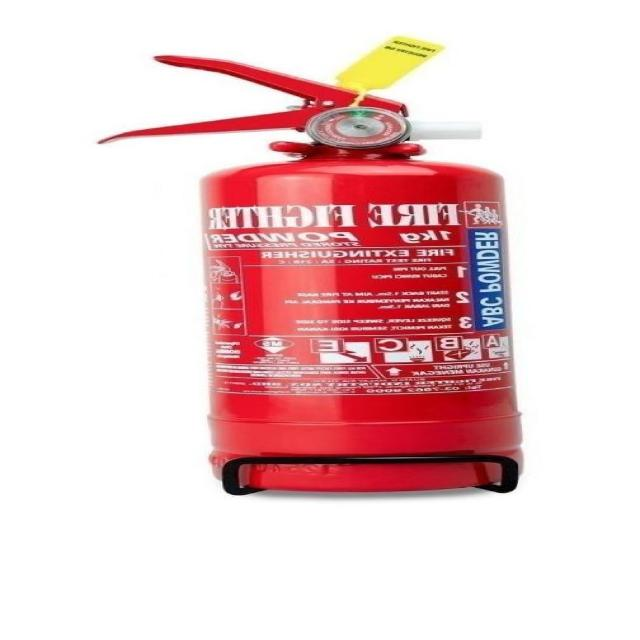fire_extinguisher: (86, 33, 531, 500)
